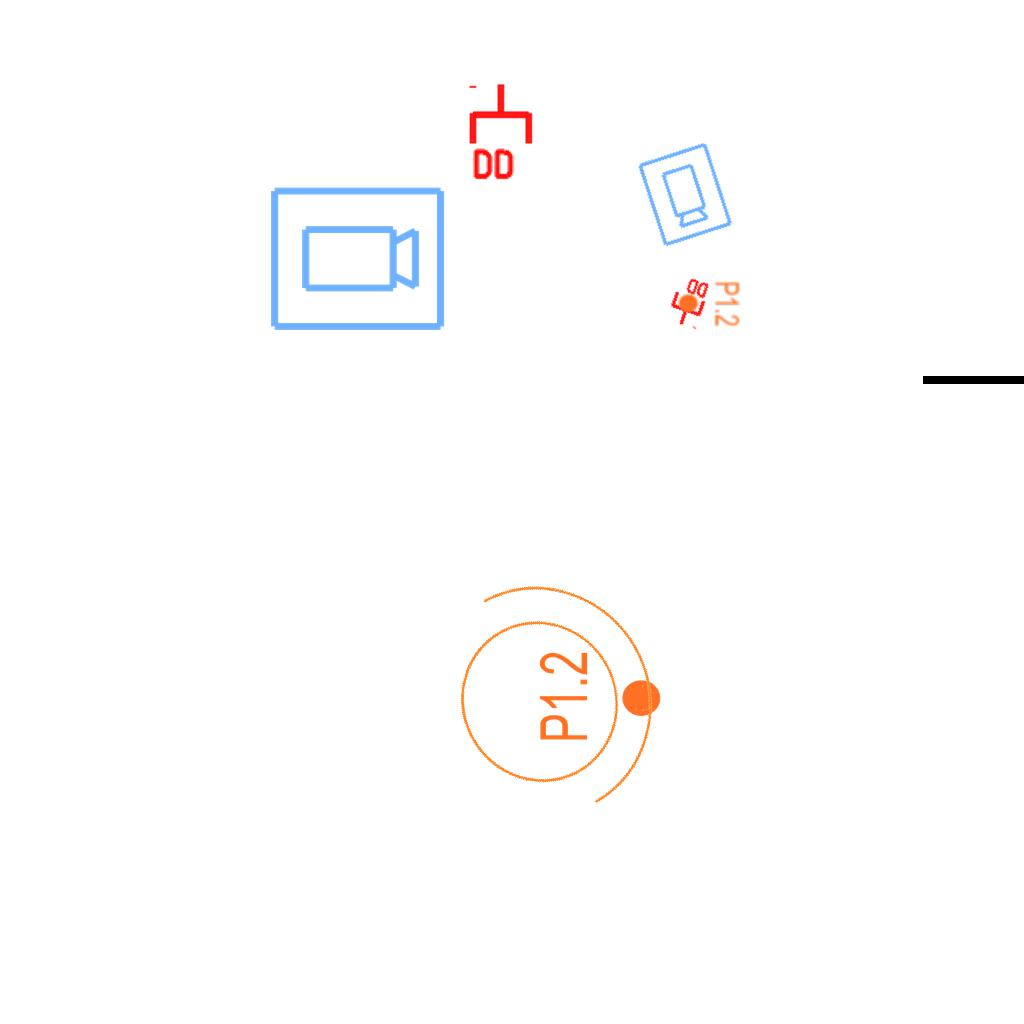Datenanschluss_zweifach: (468, 81, 537, 184), (663, 271, 713, 332)
Downlight_LED_Einbauleuchten_Flur: (536, 650, 664, 743), (677, 281, 741, 327)
KFO_Kamera_mit_Festobjektiv: (266, 183, 448, 337), (633, 139, 736, 250)
Scheinwerfer_fuer_Alarmbeleuchtung: (382, 521, 708, 862)
